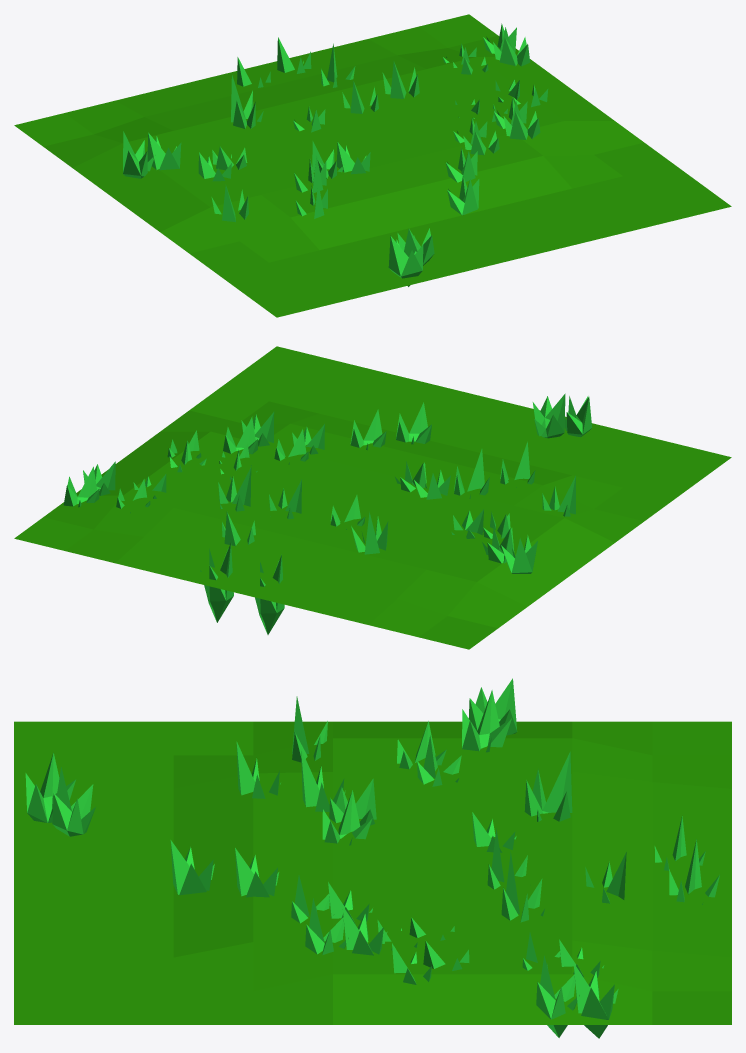
The model's file is sciete.fbx.
3 views of the same model, one above another, from view 1: azimuth 30°, elevation 25°; view 2: azimuth 150°, elevation 25°; view 3: azimuth 270°, elevation 25° (orthographic). The views are drawn at different scales.
Visible parts, largest first — view 1: Grid.004; view 2: Grid.004; view 3: Grid.004.
Part boxes in pixels (x1,y1,x2,y2): Grid.004: [14, 14, 731, 317]; Grid.004: [14, 346, 731, 649]; Grid.004: [14, 678, 731, 1038].
Bounding box in the file's own units: 1000 × 234 × 1000.
